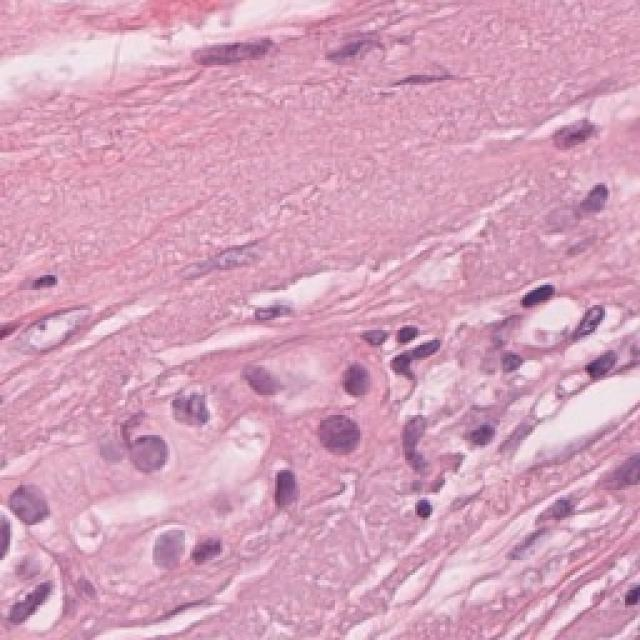normal: (112, 420, 176, 490), (305, 407, 370, 473), (257, 465, 313, 537), (0, 462, 53, 535), (163, 375, 217, 435)
